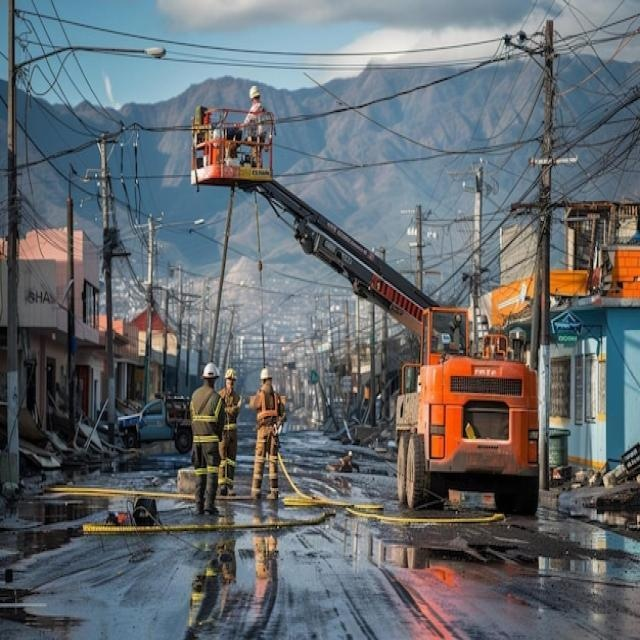Arnes_seguridad: (257, 390, 279, 425)
